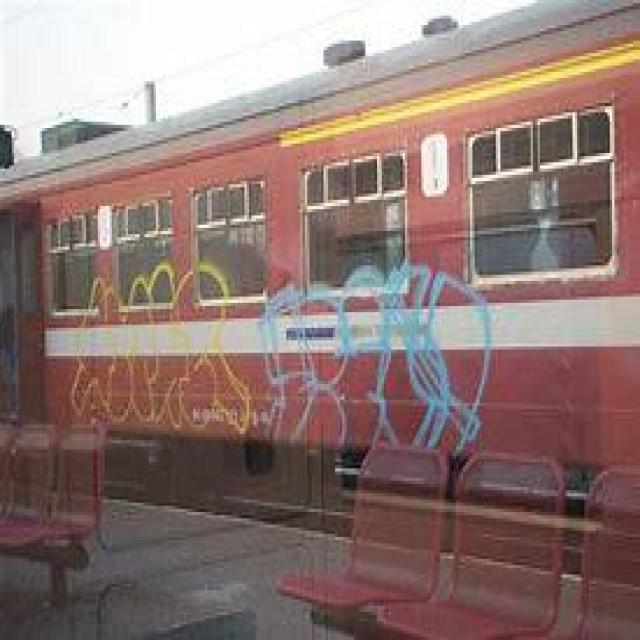nonspitting: (256, 266, 492, 456), (70, 262, 251, 438)
